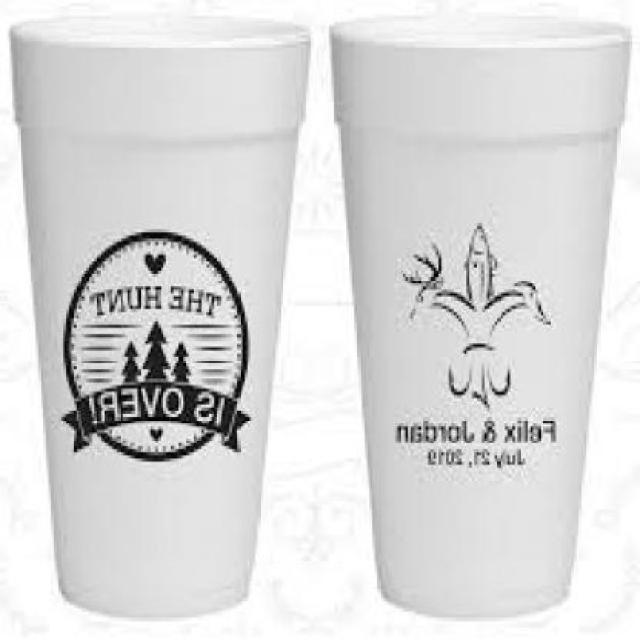PAPER: (12, 16, 314, 612), (334, 19, 632, 615)
